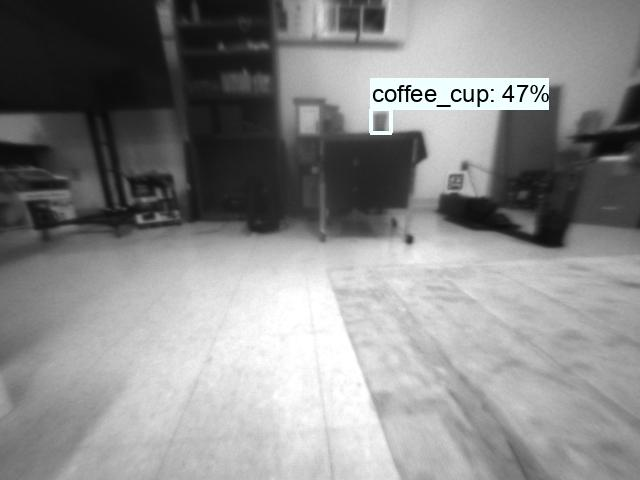coffee_cup: (370, 110, 389, 132)
